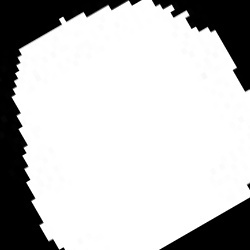spot: (10, 1, 249, 248)
